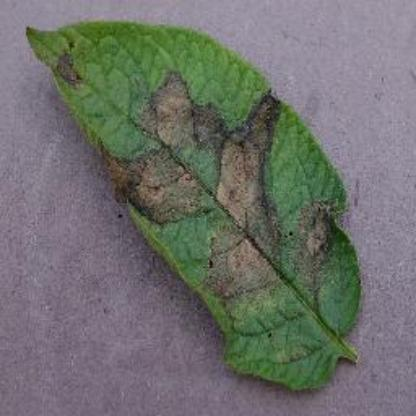Late-Blight: (16, 16, 374, 390)
